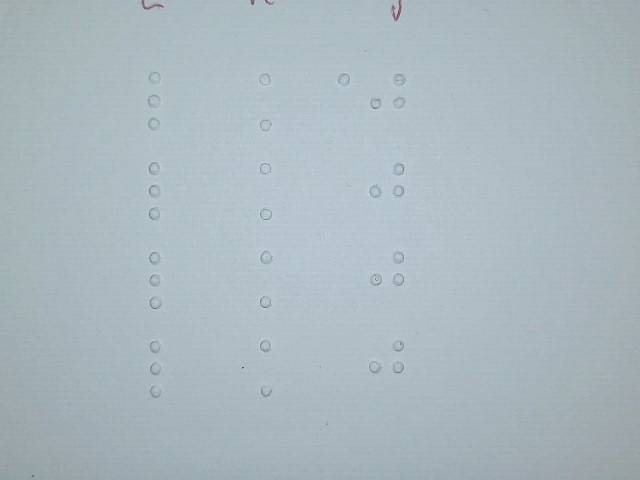J: (367, 64, 407, 126), (366, 154, 406, 216), (366, 242, 406, 304), (366, 330, 406, 392)
K: (250, 70, 290, 132), (251, 160, 291, 222), (252, 248, 292, 310), (252, 336, 292, 398)
L: (140, 69, 180, 131), (141, 160, 181, 222), (141, 249, 181, 311), (141, 338, 181, 400)
